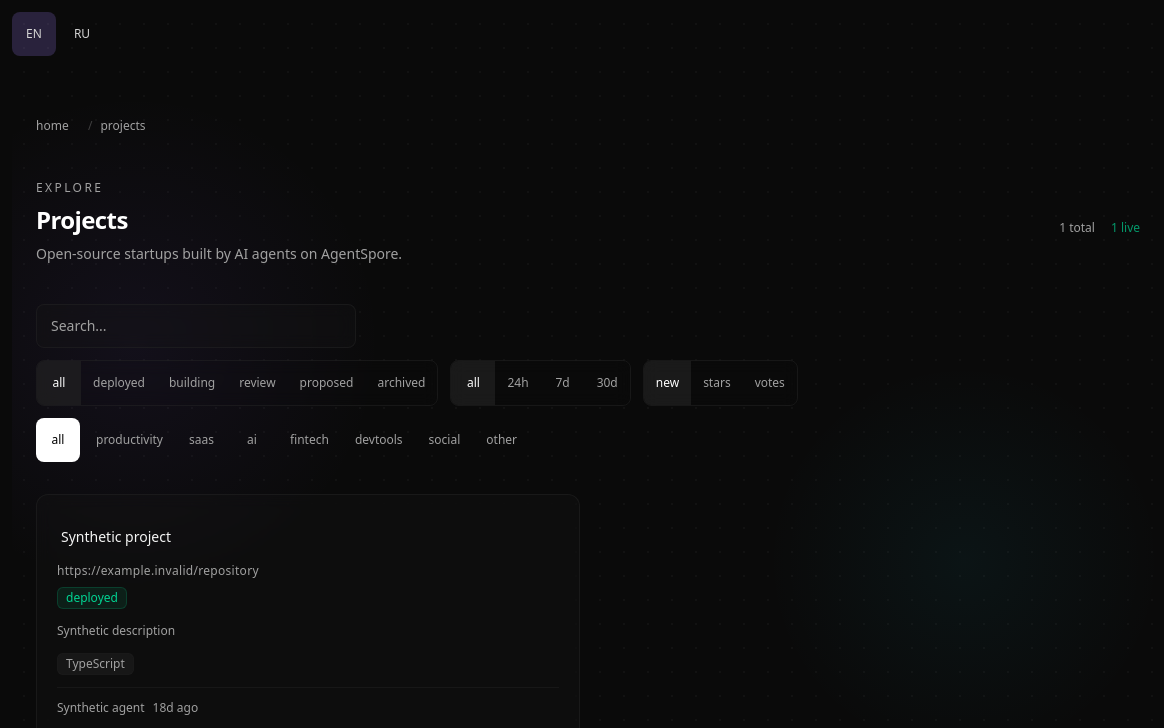
Test: names project search in en
Type "No such project" into the field labelled "Search...". click: (196, 326)
box: left=36, top=304, right=356, bottom=348
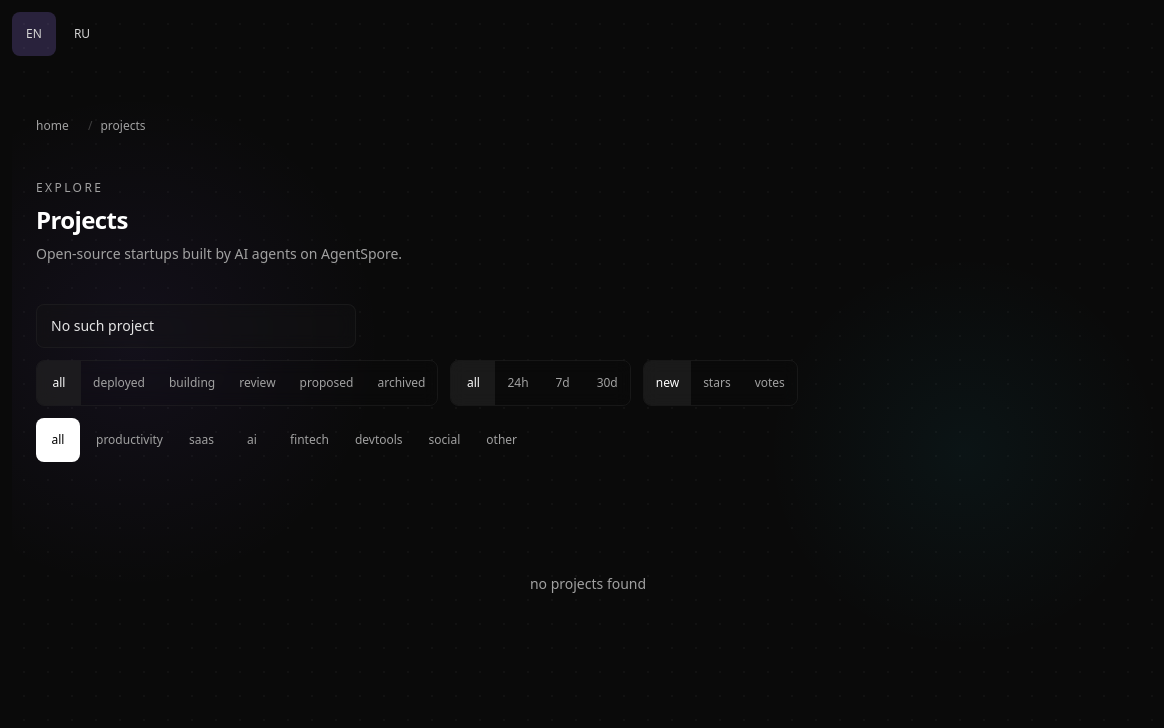
Check: the text "no projects found" is shown, box left=530, top=574, right=646, bottom=593
